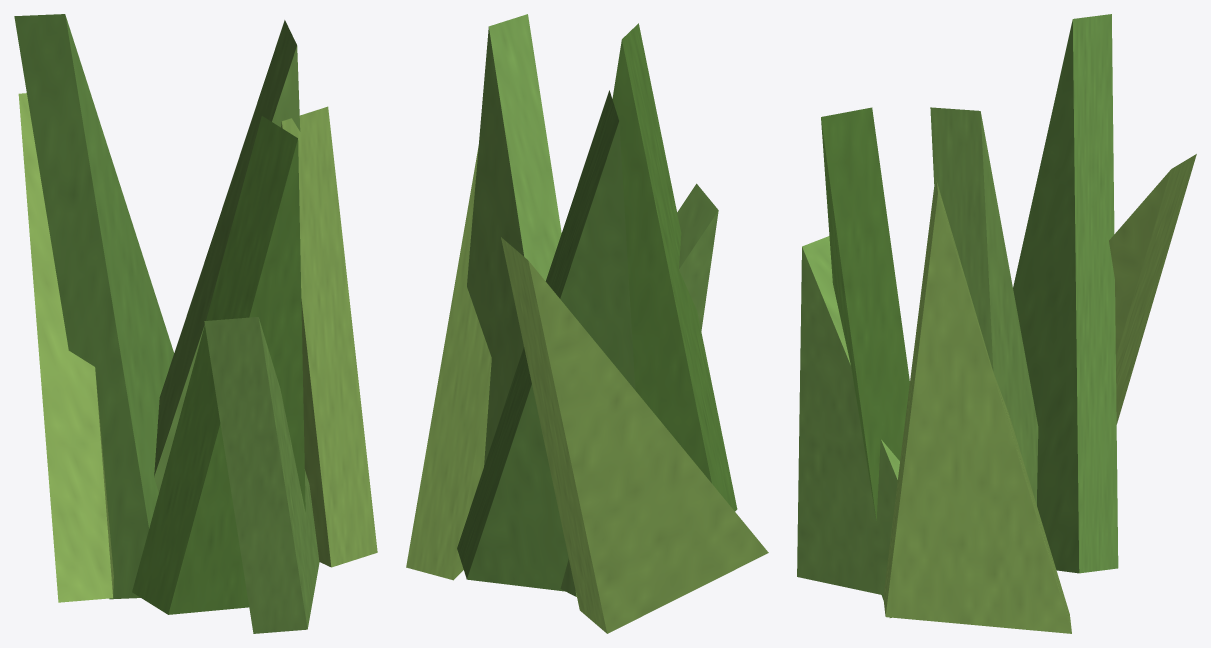
Rendered from Deco_Touffe_C.obj.
3 renders of one model, left to right at view 1: azimuth 30°, elevation 25°; view 2: azimuth 150°, elevation 25°; view 3: azimuth 270°, elevation 25°, orthographic. The views are drawn at different scales.
Parts seen in each view (by area): view 1: Deco_Touffe_C; view 2: Deco_Touffe_C; view 3: Deco_Touffe_C.
Boxes of the visible parts, bbox=[...] form: Deco_Touffe_C: bbox=[14, 14, 377, 633]; Deco_Touffe_C: bbox=[406, 14, 768, 633]; Deco_Touffe_C: bbox=[797, 14, 1196, 633].
Size of the model in its own units: 0.882 by 1.56 by 1.06.
Materials: 1 (1 with a texture image).
